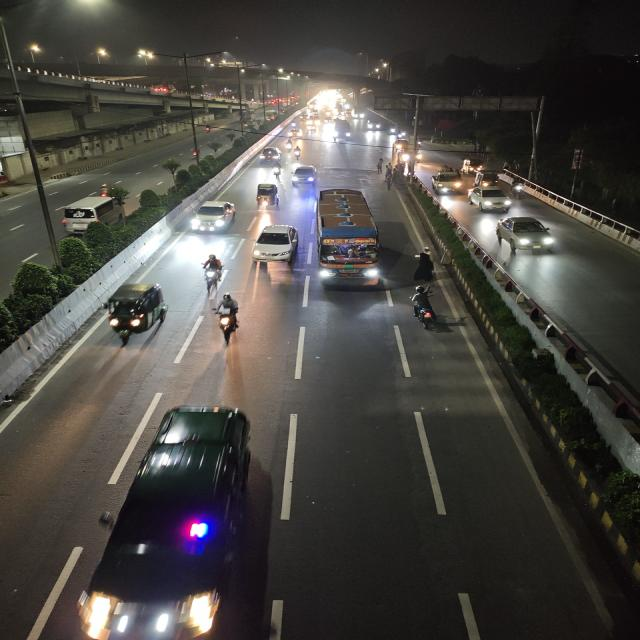bus: (312, 185, 384, 292), (332, 119, 353, 142)
car: (54, 192, 130, 233), (492, 214, 561, 256), (250, 222, 300, 268), (187, 198, 238, 236), (466, 185, 514, 213), (290, 164, 320, 192), (258, 146, 282, 162), (286, 125, 302, 138)
cng: (98, 279, 170, 349), (254, 181, 280, 210), (474, 169, 504, 187), (459, 156, 487, 174)
motorcycle: (406, 283, 461, 335), (209, 292, 247, 347), (197, 253, 227, 291), (510, 181, 530, 200), (270, 165, 284, 184), (288, 146, 304, 162), (188, 145, 201, 160), (202, 123, 214, 133)
pedestrian: (408, 248, 438, 283), (382, 169, 396, 191), (374, 156, 386, 174)
pickup_van: (431, 168, 464, 195)
